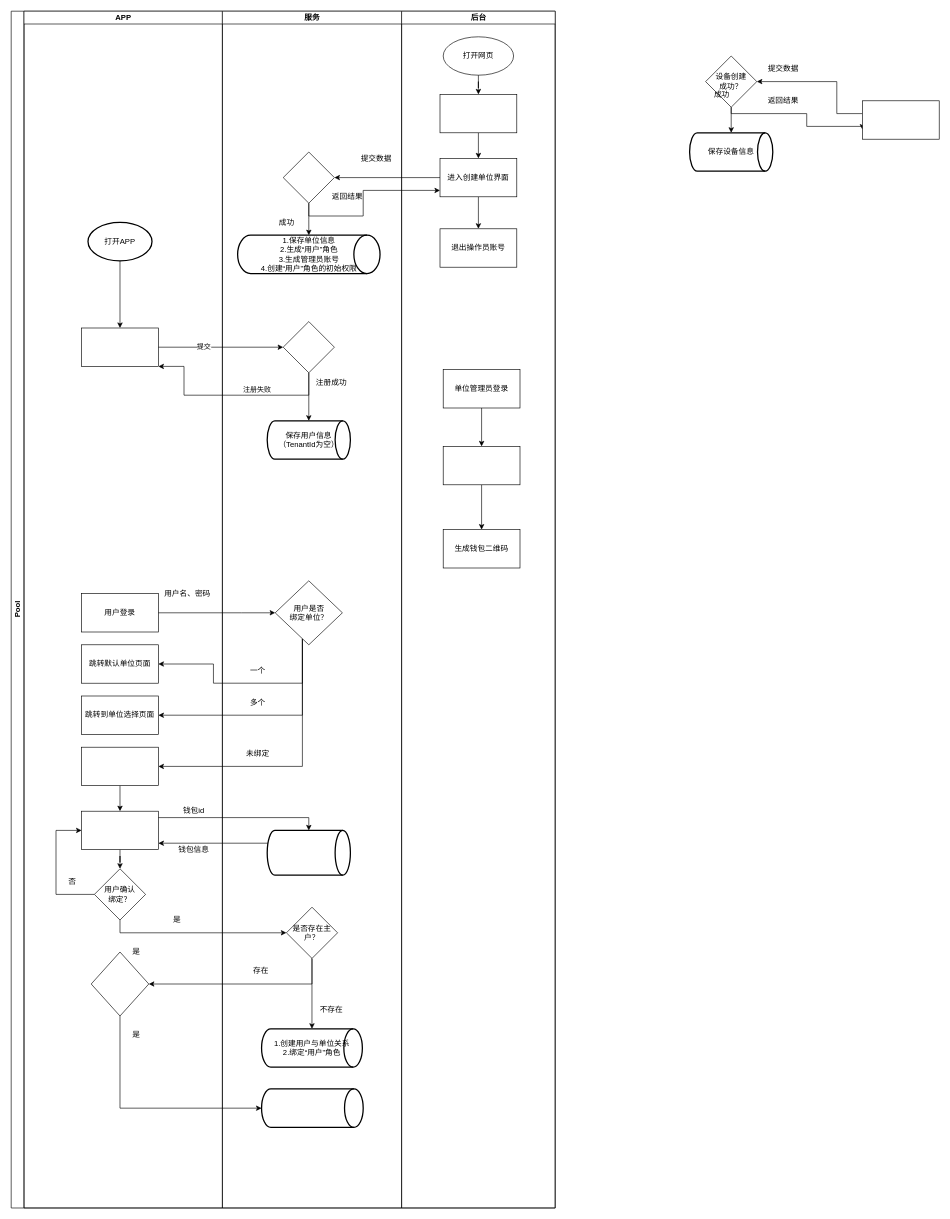
This 950x1219 diagram has some shape labels left out. Here are the shapes that lost their labels. From the top down, the centre of each, then its label:
point (478, 113): 平台操作员登录
point (900, 119): 创建设备档案
point (308, 177): 创建单位 成功？
point (119, 346): 用户注册
point (308, 347): 注册成功？
point (481, 465): 创建账户（钱包）
point (119, 766): 跳转到扫码页面
point (119, 830): 扫码二维码
point (308, 852): 获取钱包信息： 单位、设备、 计费方案等
point (120, 983): 是否成为分户？
point (312, 1108): 1.创建用户与主户关系
